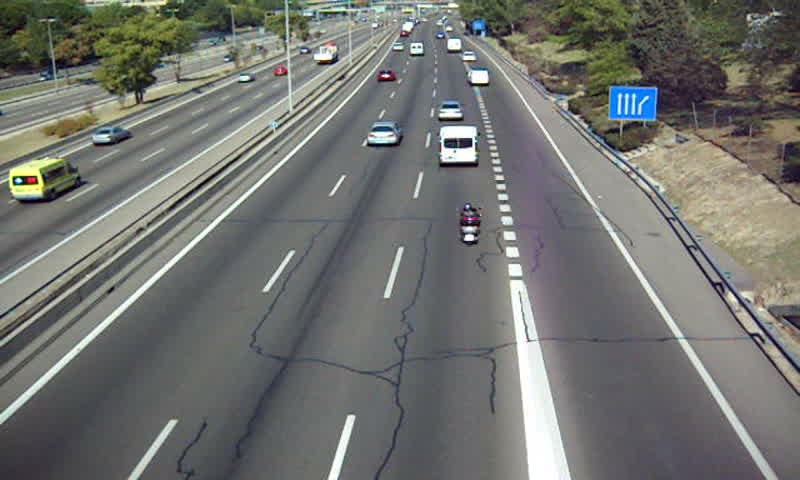car: (368, 121, 404, 147), (438, 100, 464, 120), (376, 71, 393, 84)
motorcycle: (458, 203, 482, 245)
van: (438, 125, 478, 166), (465, 69, 490, 87)
